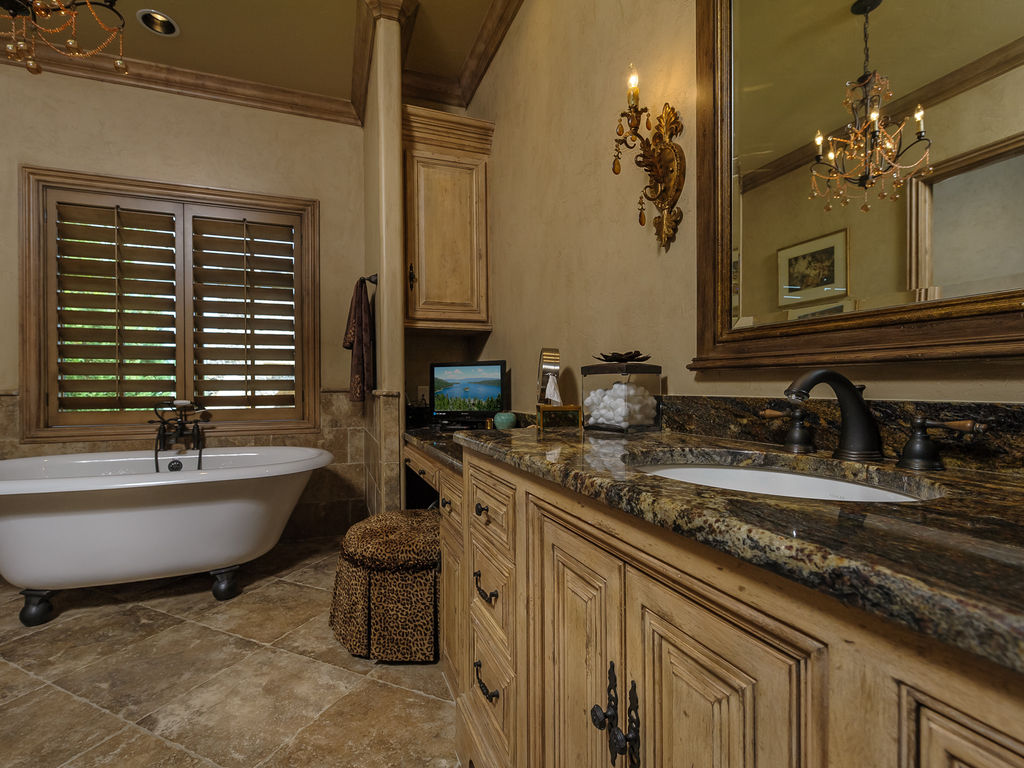tap: (782, 352, 908, 470), (141, 392, 216, 457)
